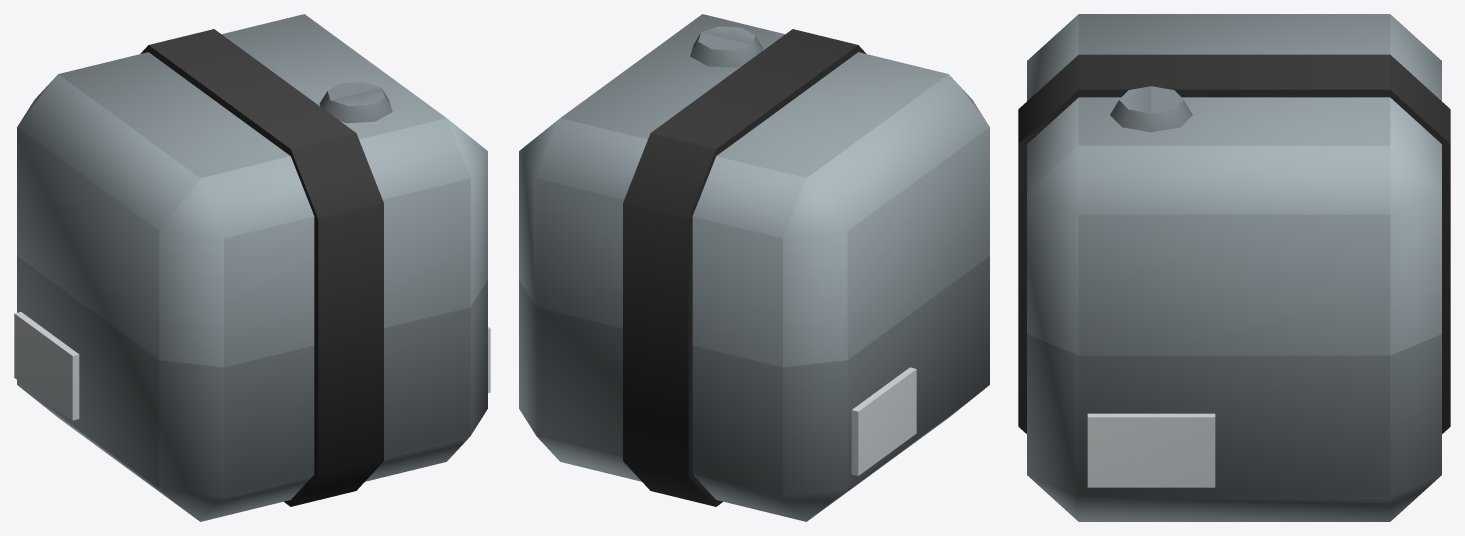
The model's file is cargo_b_packed.glb.
The picture shows the model from 3 angles, left to right: view 1: azimuth 30°, elevation 25°; view 2: azimuth 150°, elevation 25°; view 3: azimuth 270°, elevation 25°; orthographic projection. The views are drawn at different scales.
Visible parts, largest first — view 1: cargo_B_packed; view 2: cargo_B_packed; view 3: cargo_B_packed.
Boxes of the visible parts, box(x1,y1,x2,y2) form: cargo_B_packed: box(14, 14, 490, 521); cargo_B_packed: box(519, 14, 989, 521); cargo_B_packed: box(1018, 14, 1450, 521).
Size of the model in its own units: 1.56 by 1.59 by 1.56.
Materials: 1 (1 with a texture image).
